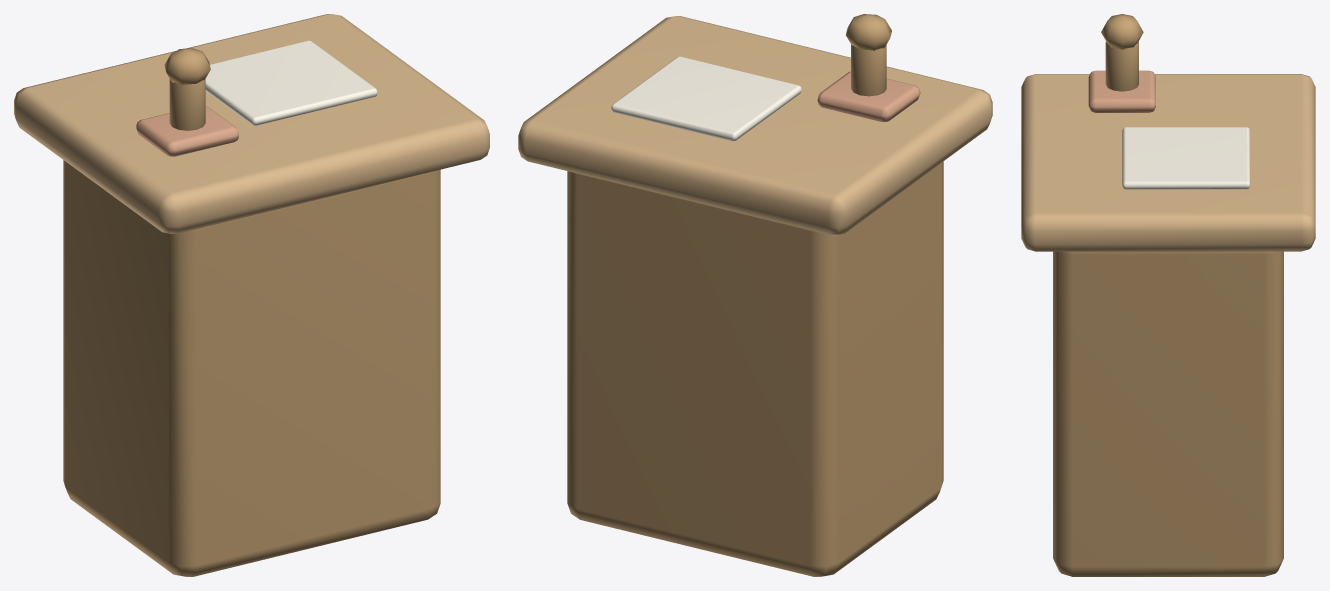
File: attendance.glb
3 renders of one model, left to right at view 1: azimuth 30°, elevation 25°; view 2: azimuth 150°, elevation 25°; view 3: azimuth 270°, elevation 25°, orthographic. The views are drawn at different scales.
Bounding box in the file's own units: 1 × 1.45 × 0.83.
